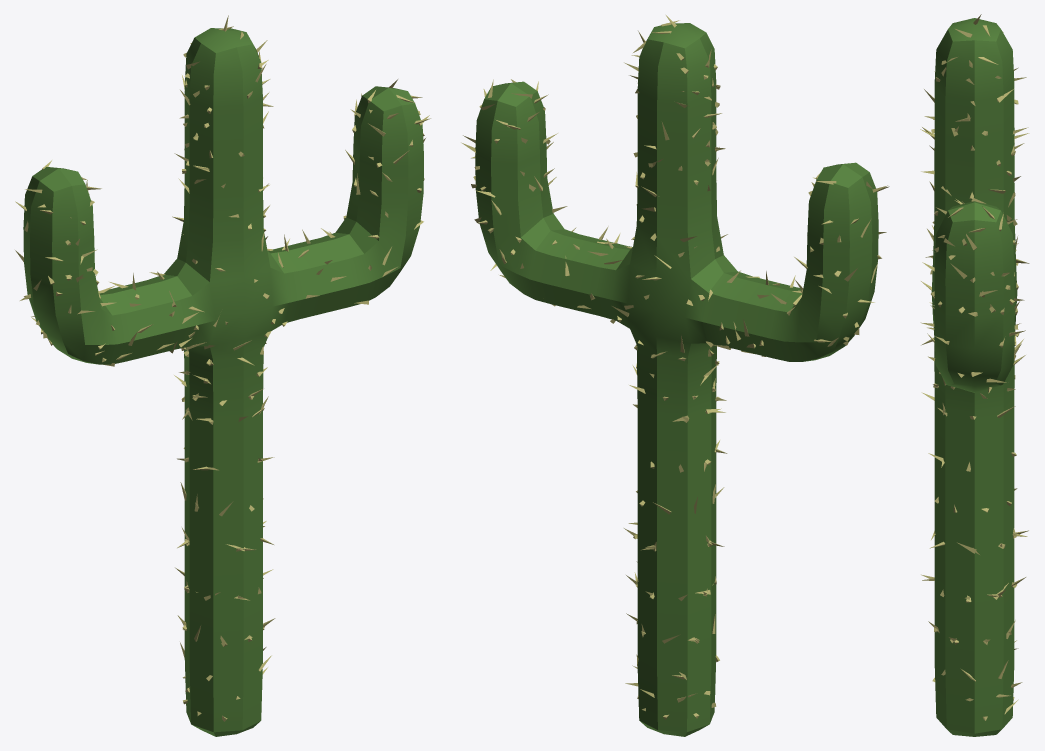
File: Cactus.fbx
3 views of the same model, side by side, from view 1: azimuth 30°, elevation 25°; view 2: azimuth 150°, elevation 25°; view 3: azimuth 270°, elevation 25° (orthographic).
Parts seen in each view (by area): view 1: Cactus; view 2: Cactus; view 3: Cactus.
Part boxes in pixels (x1,y1,x2,y2): Cactus: (15, 15, 430, 736); Cactus: (461, 15, 889, 736); Cactus: (920, 14, 1029, 736).
Size of the model in its own units: 182 by 304 by 42.77.
